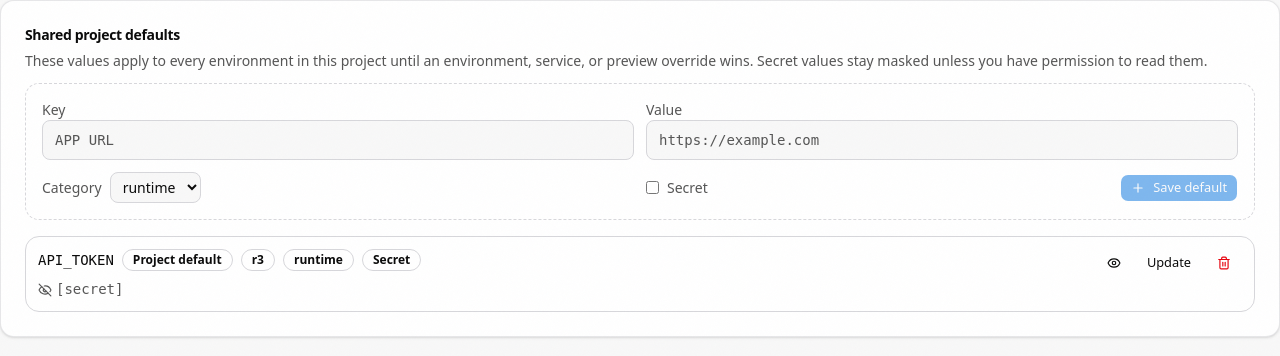
Test: ProjectEnvironmentDefaultsPanel › masks authorized secret values until the user explicitly reveals them
Check: the element with test id "project-default-row-projvar_1" shows "Project default", box top-left (133, 251), bottom-right (222, 268)
Check: the element with test id "project-default-row-projvar_1" shows "r3", box top-left (25, 236), bottom-right (1255, 312)
Click the button with test id "project-default-reveal-projvar_1" at {"x": 1114, "y": 263}, box top-left (1096, 249), bottom-right (1132, 277)
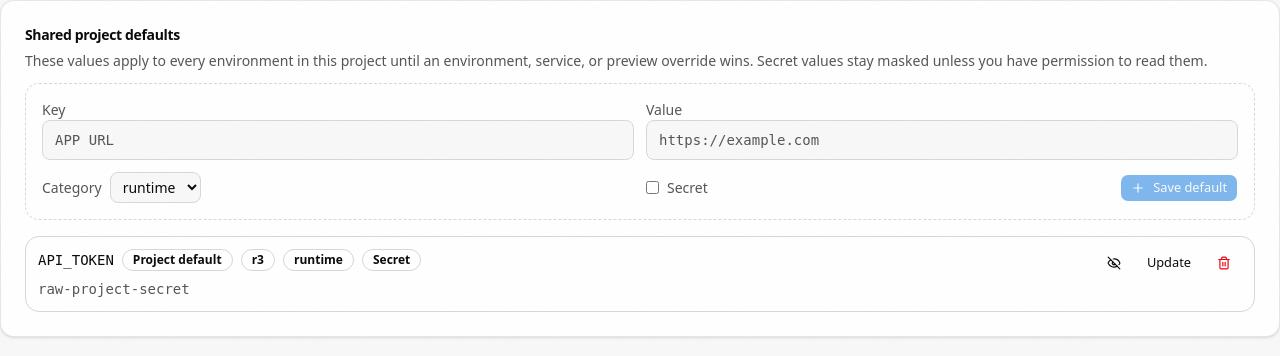
Check: the text with test id "project-default-value-projvar_1" reads "raw-project-secret", box top-left (38, 281), bottom-right (190, 297)
Click the button with test id "project-default-reveal-projvar_1" at {"x": 1114, "y": 263}, box top-left (1096, 249), bottom-right (1132, 277)
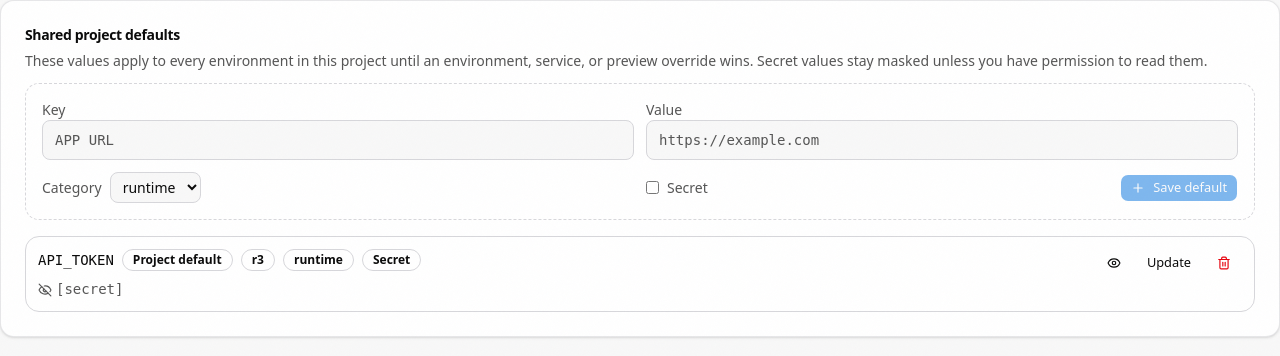
Check: the element with test id "project-default-value-projvar_1" reads "[secret]", box top-left (56, 281), bottom-right (123, 297)
